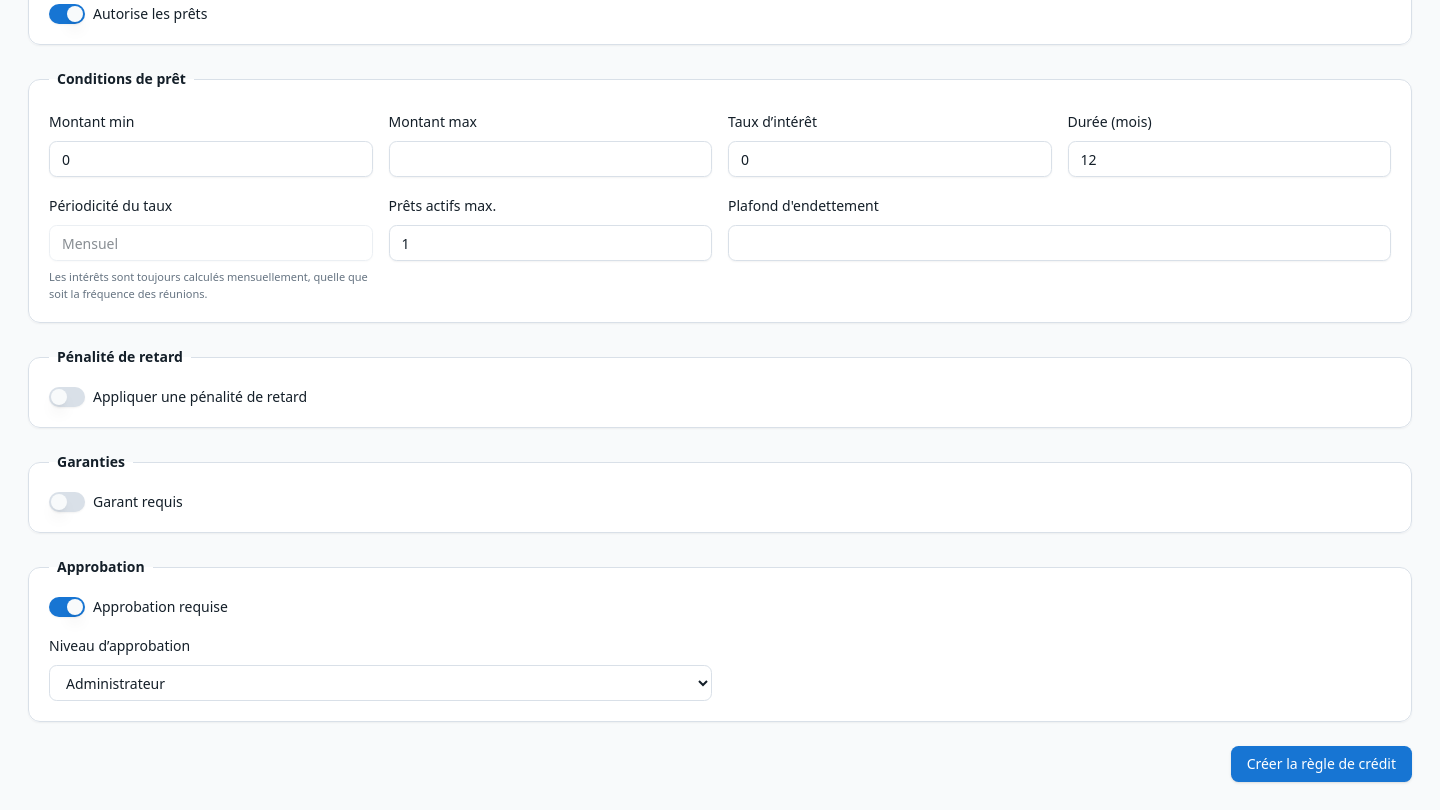
Test: Nouvelle règle de crédit — « Garant requis » OFF par défaut › activer puis désactiver « Garant requis » en création : les champs apparaissent puis disparaissent
This screenshot has width=1440, height=810.
(page scrolled)
Click the switch named "Garant requis" next to "Garant requis": click(67, 502) [49, 492, 85, 512]
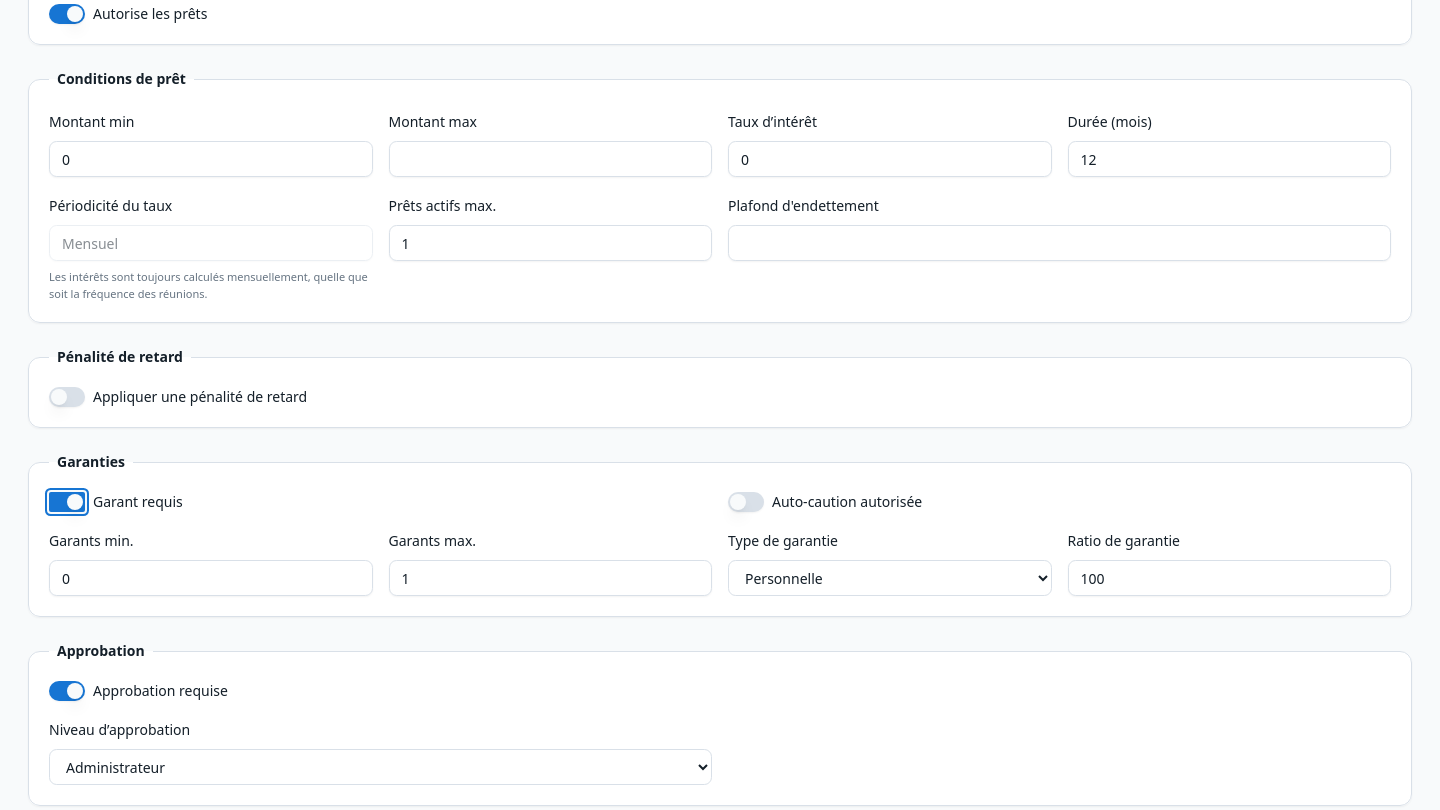
Expected: the switch named "Auto-caution autorisée" next to "Auto-caution autorisée" is shown, [728, 492, 764, 512]
Expected: the number field labelled "Garants min." is shown, [49, 560, 372, 596]
Expected: the number field labelled "Garants max." is shown, [388, 560, 712, 596]
Click the switch named "Garant requis" next to "Garant requis": click(67, 502) [49, 492, 85, 512]
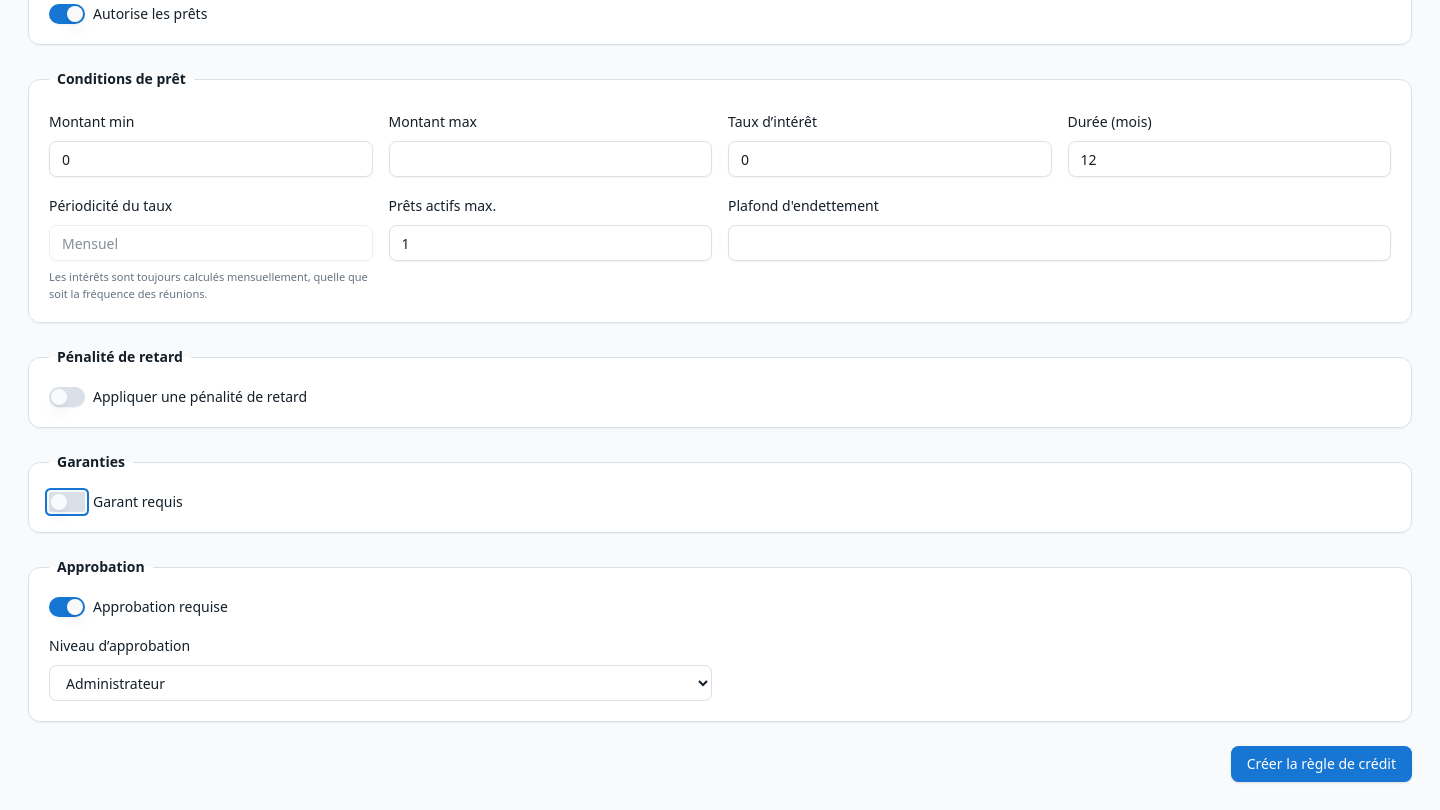
Expected: the label labelled "Auto-caution autorisée" is gone
Expected: the label labelled "Garants min." is gone
Expected: the label labelled "Garants max." is gone
